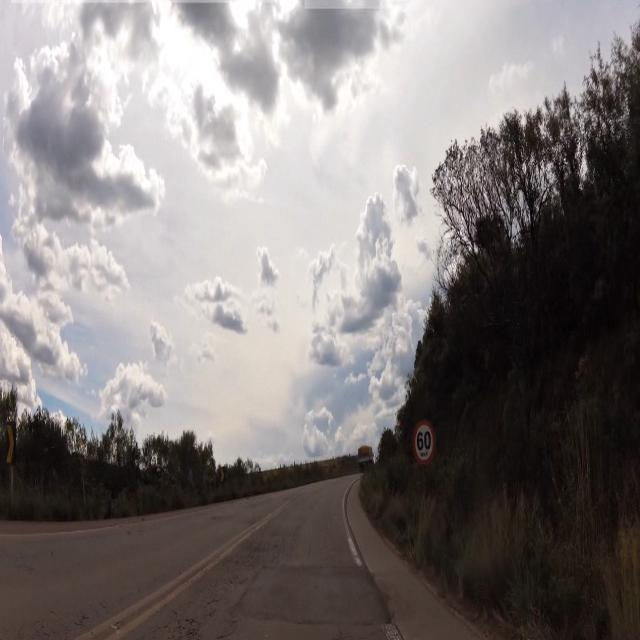R-19: (412, 420, 434, 469)
